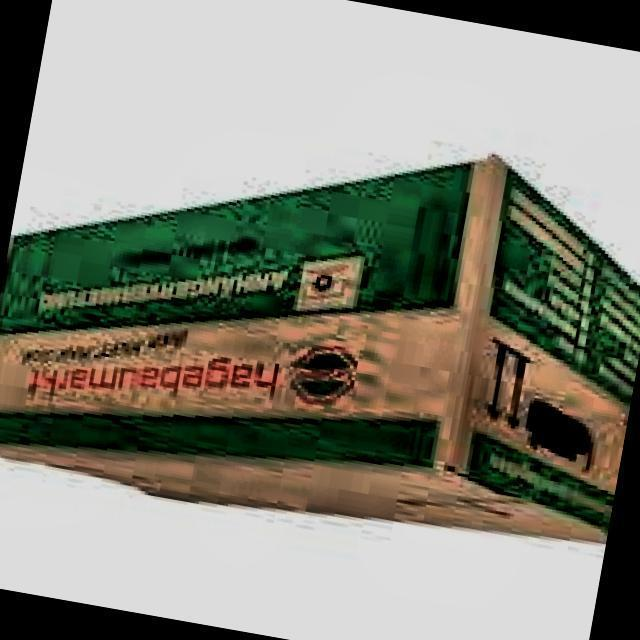cardboard: (0, 73, 640, 580)
